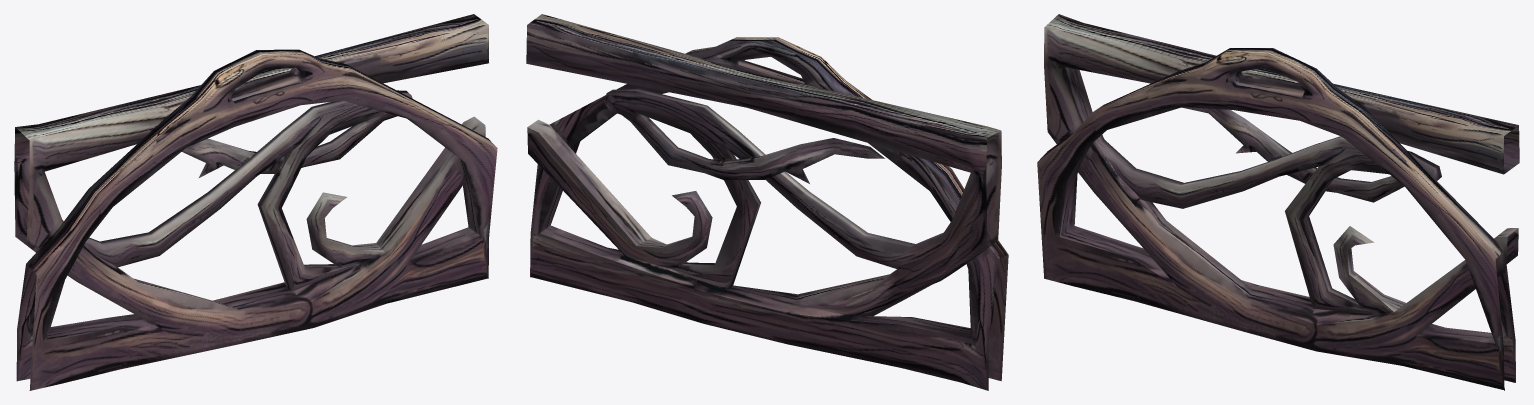
The model's file is Fencewall01.glb.
The picture shows the model from 3 angles, left to right: view 1: azimuth 30°, elevation 25°; view 2: azimuth 150°, elevation 25°; view 3: azimuth 330°, elevation 25°; orthographic projection.
Visible parts, largest first — view 1: Fencewall01; view 2: Fencewall01; view 3: Fencewall01.
Boxes of the visible parts, x1,y1,x2,y2 form: Fencewall01: (14,14,497,390); Fencewall01: (526,14,1008,390); Fencewall01: (1037,14,1519,390).
Size of what is drawn, in the model's own units: 1.95 by 1.15 by 0.1928.
1 material, 1 textured.
